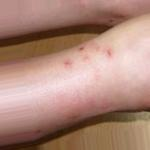Fleas: (64, 59, 73, 67), (107, 48, 112, 57), (78, 45, 84, 50)
